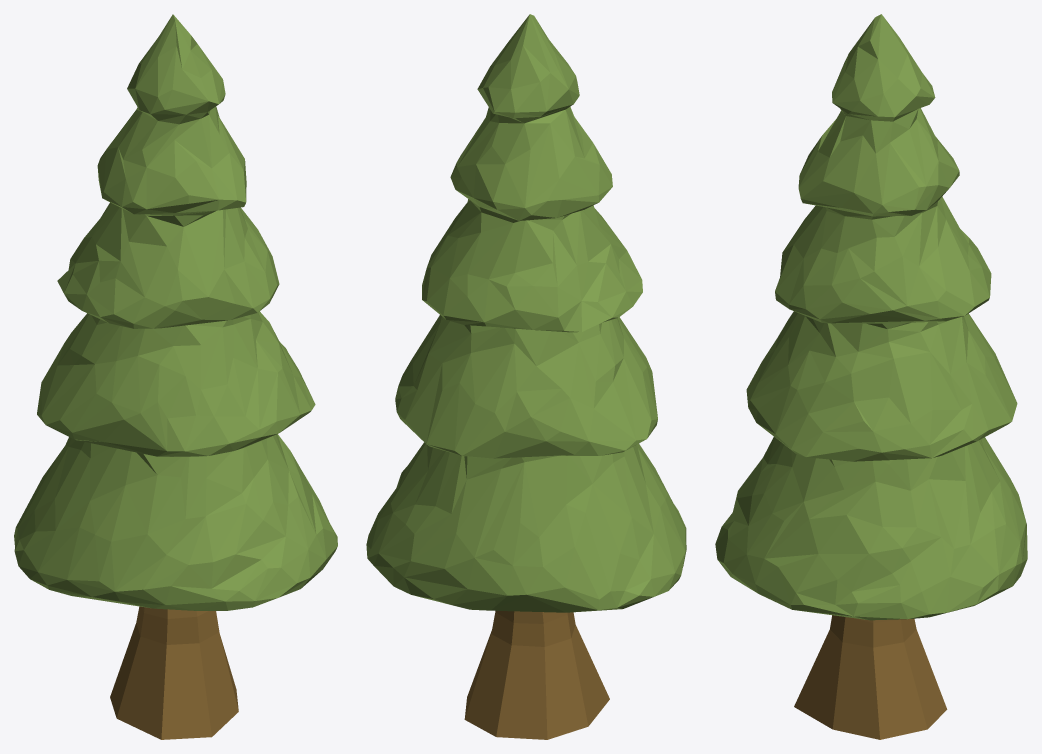
Rendered from barryy.fbx.
3 views of the same model, side by side, from view 1: azimuth 30°, elevation 25°; view 2: azimuth 150°, elevation 25°; view 3: azimuth 270°, elevation 25° (orthographic).
Parts seen in each view (by area): view 1: pCylinder1, pCylinder2; view 2: pCylinder1, pCylinder2; view 3: pCylinder1, pCylinder2.
Part boxes in pixels (x1,y1,x2,y2): pCylinder1: (14,14,337,610); pCylinder2: (110,606,238,739); pCylinder1: (366,14,686,612); pCylinder2: (464,611,609,739); pCylinder1: (715,14,1027,620); pCylinder2: (794,615,947,739).
Bounding box in the file's own units: 13.73 × 32.24 × 13.13.
